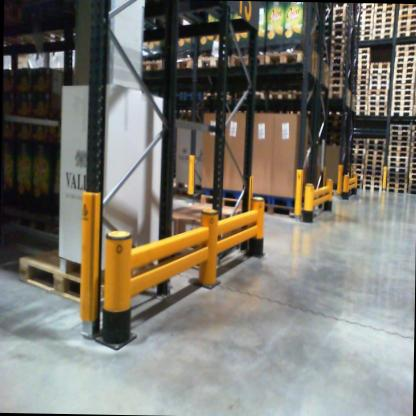pallet: (20, 244, 136, 317), (267, 46, 318, 82), (253, 193, 303, 217), (197, 193, 246, 210), (229, 52, 266, 74), (195, 49, 227, 74), (234, 81, 264, 104), (164, 55, 197, 74), (199, 87, 233, 103), (265, 87, 292, 106), (135, 53, 162, 70), (322, 42, 347, 56), (314, 91, 343, 101), (179, 89, 201, 102), (165, 87, 183, 101), (321, 51, 346, 61), (290, 92, 317, 101), (316, 86, 344, 94), (392, 43, 416, 52), (371, 31, 395, 40), (367, 62, 393, 70), (374, 9, 394, 19), (325, 78, 344, 88), (367, 87, 388, 96), (389, 124, 412, 132), (326, 71, 346, 80), (329, 7, 347, 17), (385, 186, 405, 195), (373, 14, 393, 23), (394, 54, 416, 62), (372, 20, 394, 28), (325, 57, 344, 66), (386, 182, 407, 190), (366, 110, 387, 118), (328, 13, 346, 22), (398, 8, 416, 17), (391, 82, 414, 89), (373, 3, 396, 10), (367, 138, 387, 146), (396, 31, 416, 39), (396, 24, 416, 32), (392, 75, 414, 82), (390, 110, 412, 117), (367, 94, 389, 101), (349, 135, 366, 144), (325, 29, 344, 37), (363, 180, 382, 188), (363, 170, 382, 178), (369, 73, 388, 81), (354, 46, 373, 54), (375, 6, 394, 14), (394, 60, 415, 67), (367, 104, 388, 111), (385, 171, 409, 177), (392, 66, 416, 72), (362, 185, 382, 192), (396, 20, 416, 27), (386, 177, 409, 183), (392, 71, 415, 77), (390, 93, 413, 99), (390, 99, 413, 105), (326, 64, 345, 71), (389, 150, 408, 157), (349, 111, 368, 118), (397, 15, 416, 22), (323, 22, 345, 28), (384, 161, 406, 167), (394, 48, 416, 54), (390, 104, 412, 110), (368, 84, 390, 90), (324, 3, 356, 7), (355, 29, 371, 37), (365, 151, 386, 157), (347, 146, 365, 153), (388, 156, 409, 162), (358, 19, 372, 28), (365, 155, 385, 161), (388, 136, 412, 141), (390, 88, 414, 93), (369, 68, 389, 74), (368, 100, 388, 106), (350, 104, 367, 111), (389, 131, 412, 136), (372, 28, 395, 33), (365, 159, 384, 165), (354, 53, 373, 59), (350, 142, 366, 149), (359, 6, 373, 14), (358, 13, 372, 21), (398, 4, 416, 10), (385, 167, 406, 172), (363, 175, 383, 180), (364, 165, 384, 170), (366, 145, 386, 150), (389, 146, 409, 151), (389, 141, 409, 146), (349, 163, 363, 170), (349, 152, 365, 158), (333, 36, 346, 43), (349, 157, 364, 163), (353, 94, 368, 100), (353, 84, 370, 89), (354, 69, 368, 75), (357, 23, 371, 29), (368, 80, 388, 84), (354, 79, 370, 84), (354, 64, 370, 69), (354, 59, 370, 64), (360, 3, 373, 9), (352, 167, 363, 174), (353, 89, 368, 94), (355, 34, 370, 39), (353, 100, 367, 105), (408, 172, 416, 180), (408, 176, 416, 184), (407, 188, 416, 195), (354, 75, 368, 79), (353, 173, 362, 179), (410, 150, 416, 159), (409, 167, 416, 174), (409, 163, 416, 169), (408, 183, 415, 189), (356, 183, 361, 190), (411, 124, 416, 131), (409, 157, 416, 162), (410, 142, 416, 147), (410, 147, 416, 152), (412, 135, 416, 142), (413, 111, 416, 118), (413, 106, 416, 113), (413, 93, 416, 100), (412, 131, 416, 136), (358, 179, 362, 183), (414, 100, 416, 106)
